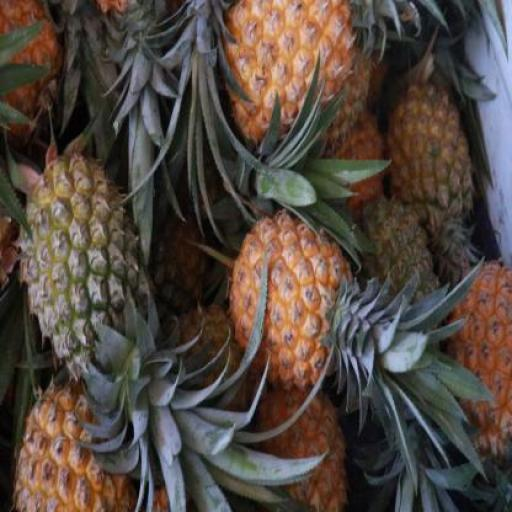------------------------------: (20, 152, 151, 375), (386, 65, 474, 237)
Pineapple - v8 v1: (228, 202, 350, 386), (222, 0, 370, 150), (13, 384, 138, 512), (446, 260, 510, 450)
